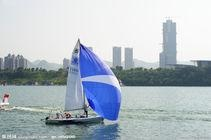fanchuan: (43, 38, 123, 125)
